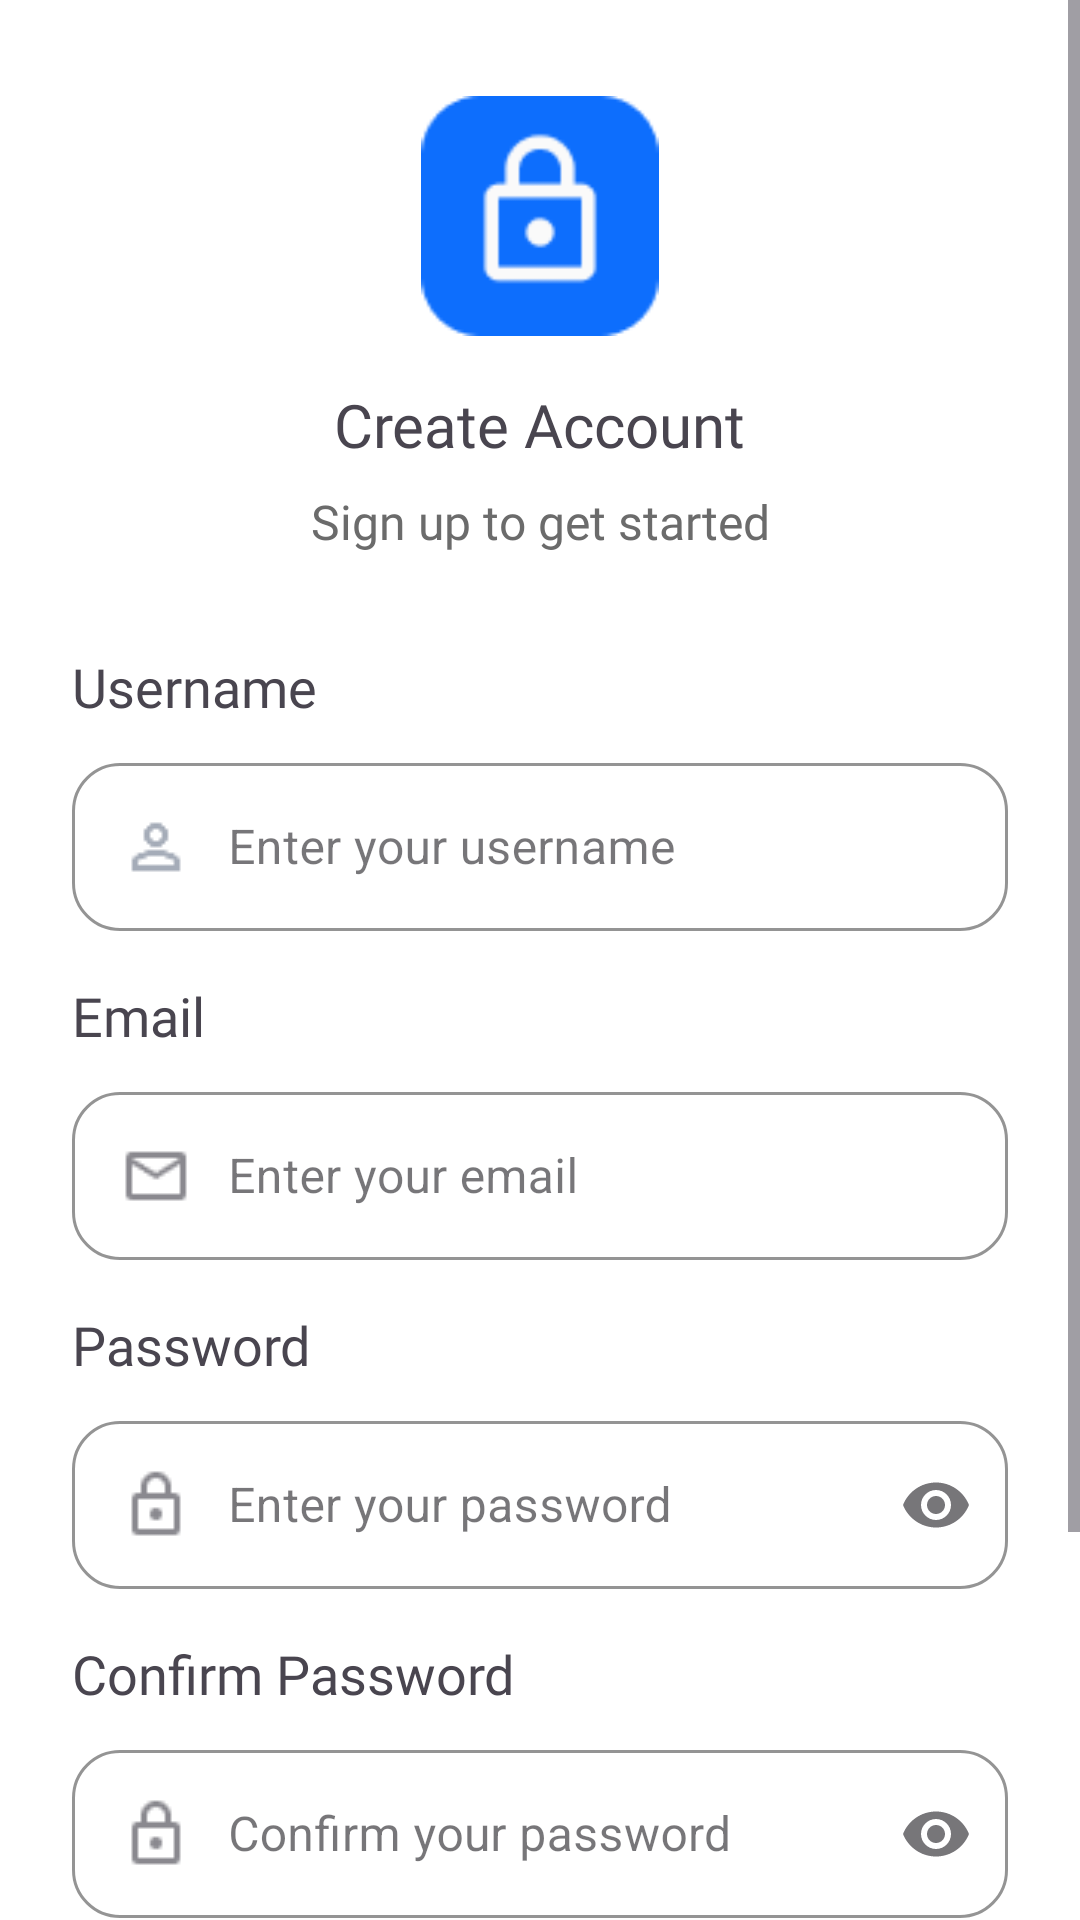

Screen size 1080px x 1920px. Icon name, then its box in pixels as [x1,y1,x2,y2]:
lockicon: [421,96,659,336]
